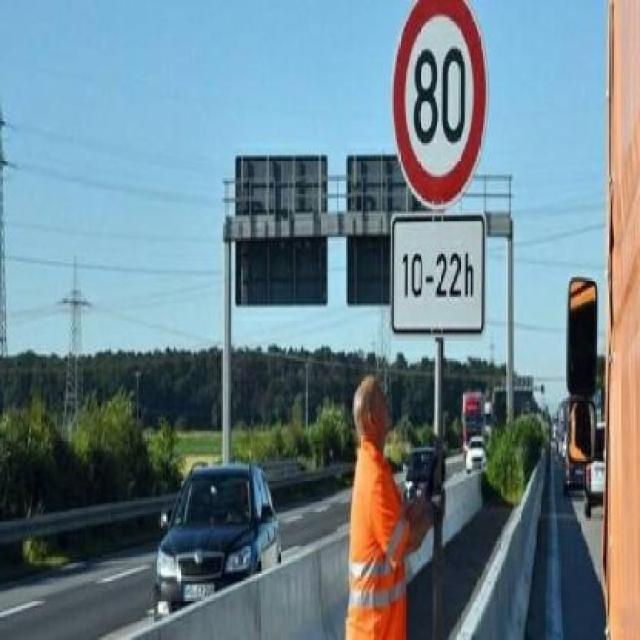forb_speed_over_80: (394, 6, 489, 209)
